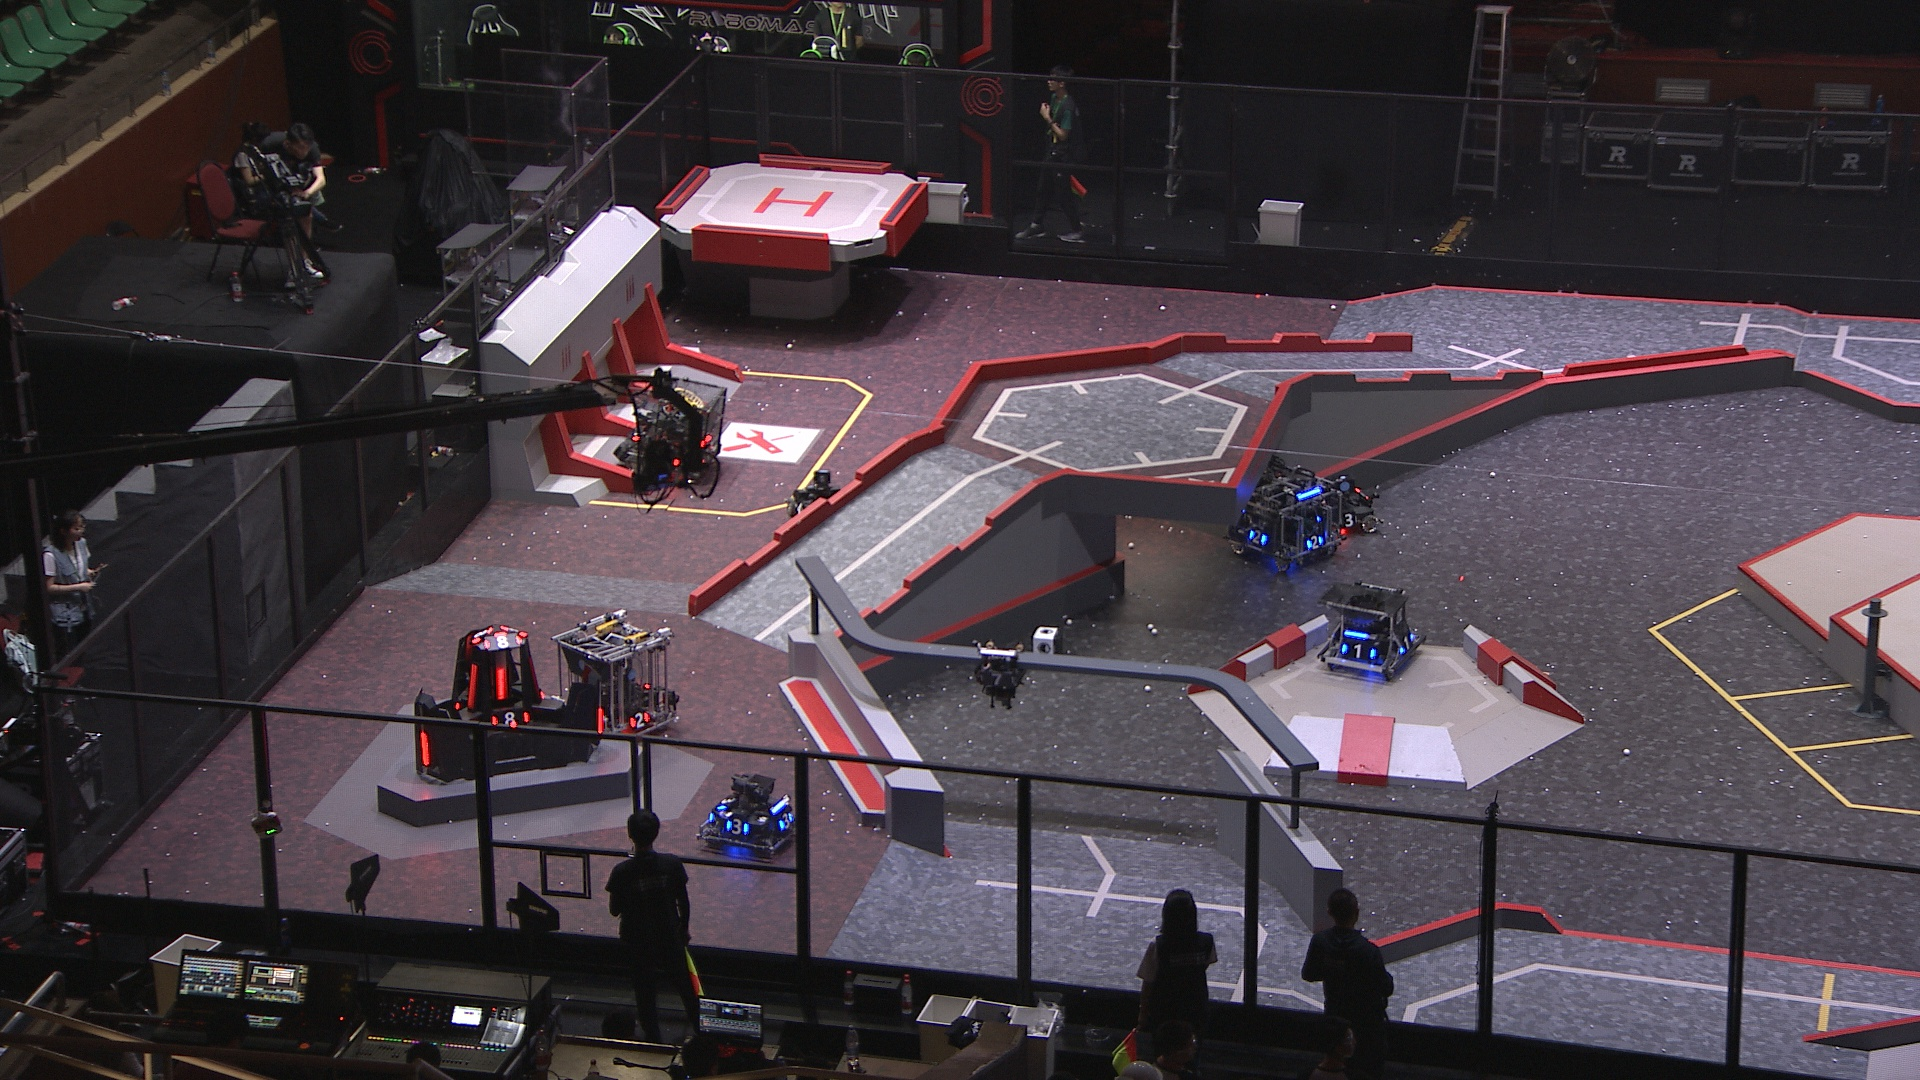armor: (978, 669, 1015, 688), (477, 633, 527, 647), (1338, 642, 1377, 659), (491, 709, 529, 727), (465, 662, 479, 709), (493, 665, 509, 702), (469, 624, 496, 645), (717, 793, 740, 815), (415, 731, 430, 765), (1245, 527, 1269, 546), (626, 711, 651, 728), (1305, 531, 1325, 553), (721, 820, 749, 835), (1338, 512, 1361, 527), (593, 705, 605, 735), (628, 425, 646, 442), (1399, 633, 1415, 651), (778, 811, 794, 828)
base: (414, 616, 608, 785)
car: (555, 611, 684, 744), (1220, 456, 1348, 580), (615, 367, 727, 493), (1319, 579, 1424, 683), (698, 773, 796, 855), (1304, 472, 1381, 549), (781, 465, 855, 541)
watcher: (975, 637, 1027, 708)
